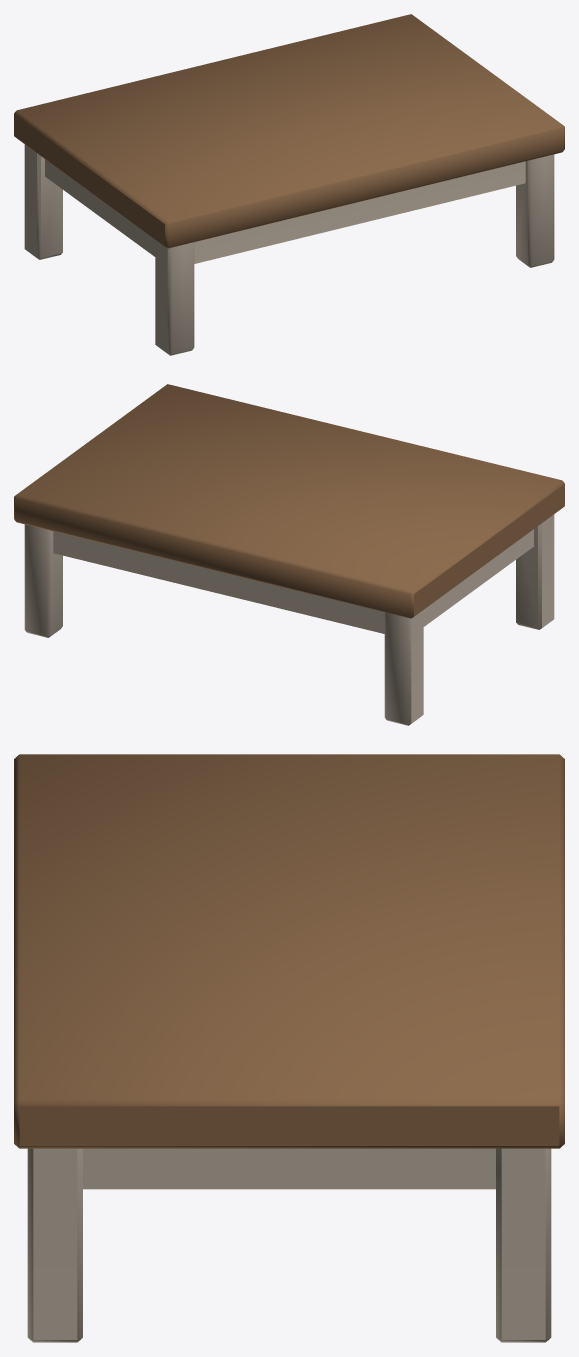
File: table_medium_long.obj
3 renders of one model, top to bottom at view 1: azimuth 30°, elevation 25°; view 2: azimuth 150°, elevation 25°; view 3: azimuth 270°, elevation 25°, orthographic. The views are drawn at different scales.
Visible parts, largest first — view 1: table_medium_long_Cube.004; view 2: table_medium_long_Cube.004; view 3: table_medium_long_Cube.004.
Boxes of the visible parts, x1=… form: table_medium_long_Cube.004: x1=14, y1=14, x2=564, y2=355; table_medium_long_Cube.004: x1=14, y1=384, x2=564, y2=725; table_medium_long_Cube.004: x1=14, y1=754, x2=564, y2=1342.
Bounding box in the file's own units: 3 × 1 × 2.
1 material, 1 textured.
